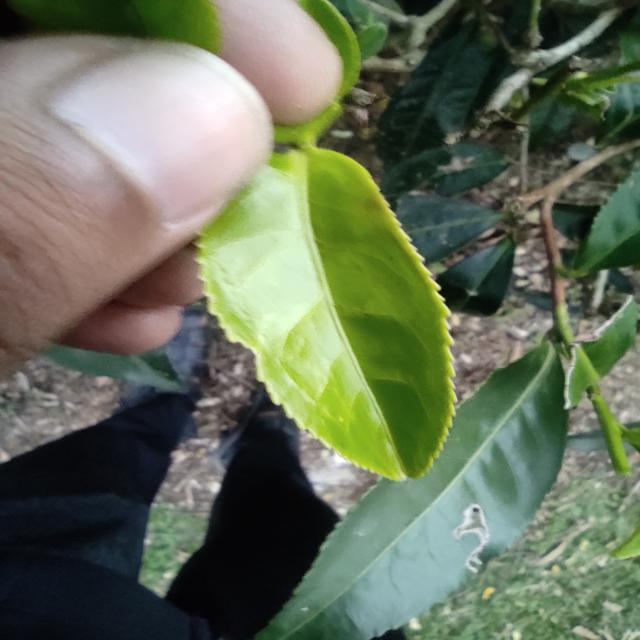Category C 4-7 days: (163, 113, 500, 526)
